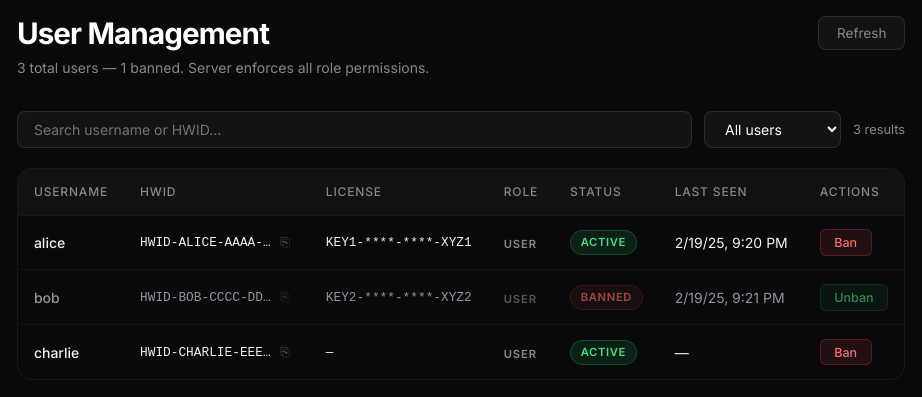
AdminUsers — search › filters users by username
The image size is (922, 397).
Expected: the text "alice" is shown, [18,215,124,270]
In the field with placeholder "Search username or HWID…": [354, 130] box [17,112,692,148], type "ali"
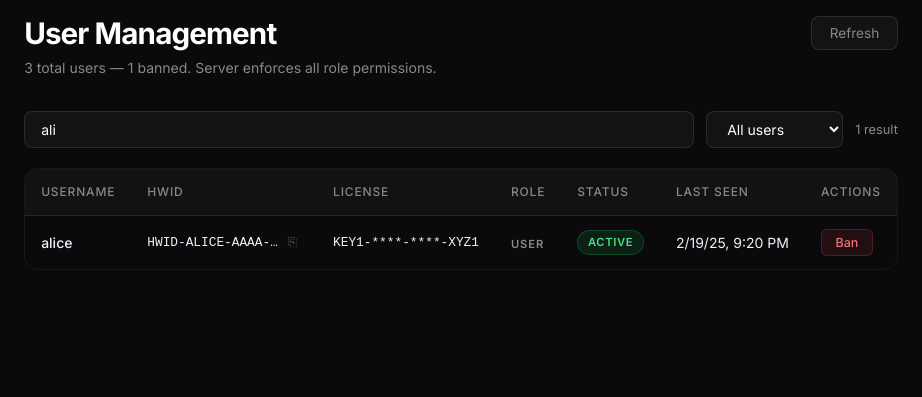
Expected: the text "alice" is shown, [25,215,131,270]
Expected: the text "bob" is gone
Expected: the text "charlie" is gone
